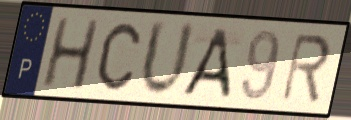9: (238, 27, 281, 104)
A: (178, 26, 232, 101)
C: (95, 20, 143, 94)
H: (38, 16, 102, 92)
R: (279, 32, 334, 105)
U: (137, 16, 198, 100)
